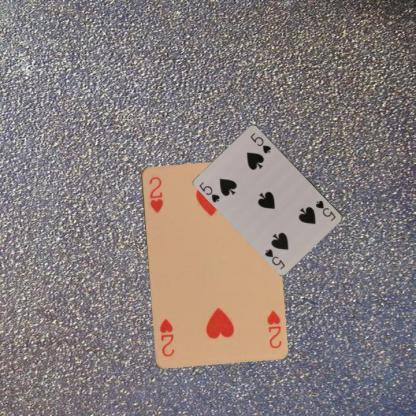2h: (144, 174, 165, 214), (264, 308, 283, 350)
5s: (196, 179, 221, 204), (313, 198, 338, 222)
